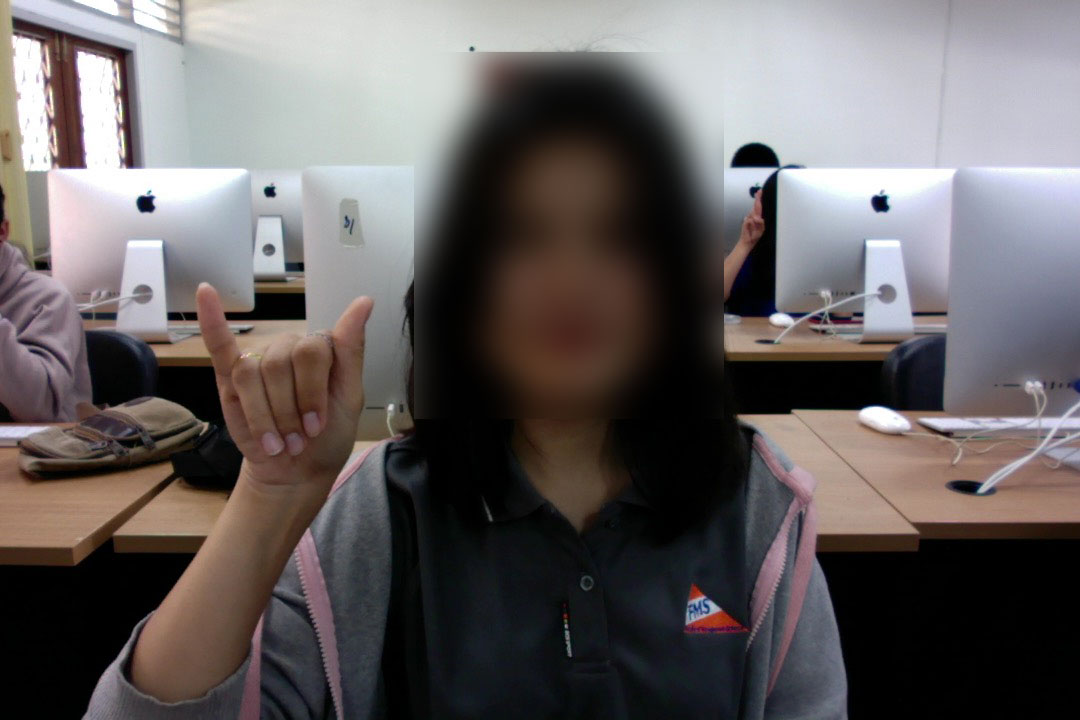yor: (187, 269, 378, 507)
